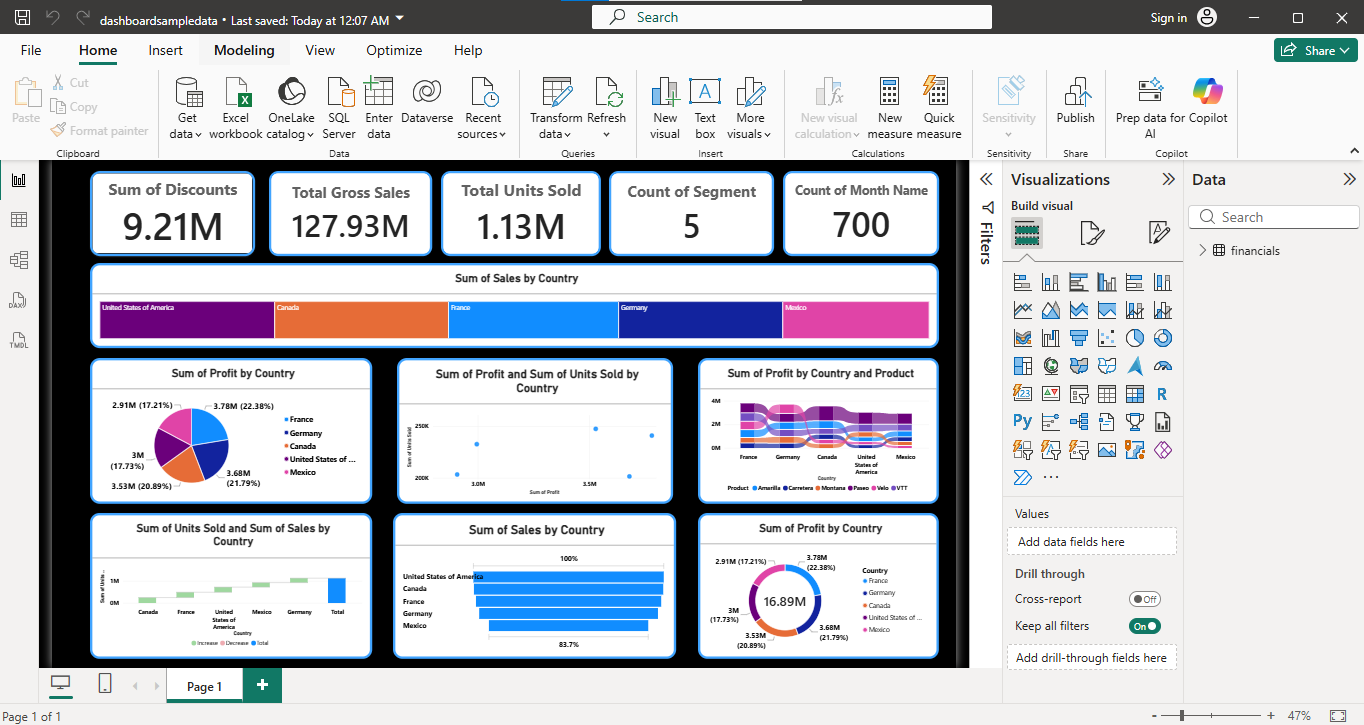

Layout of this report page (visuals, bound fields, positions):
{"tool":"powerbi","page":{"name":"Page 1","canvas":[1920,1080],"ordinal":0},"visuals":[{"type":"ribbonChart","fields":{"Category":["financials.Country"],"Series":["financials.Product"],"Y":["Sum(financials.Profit)"]},"box":[1373.4,420.9,512.4,310.4],"z":0},{"type":"waterfallChart","fields":{"Category":["financials.Country"],"Y":["Sum(financials.Units Sold)"]},"box":[80.8,750.5,599.5,310.4],"z":1000},{"type":"funnel","fields":{"Category":["financials.Country"],"Y":["Sum(financials.Sales)"]},"box":[725,750.5,601.7,310.4],"z":2000},{"type":"scatterChart","fields":{"Category":["financials.Country"],"X":["Sum(financials.Profit)"],"Y":["Sum(financials.Units Sold)"]},"box":[733.5,420.9,586.8,310.4],"z":3000},{"type":"pieChart","fields":{"Category":["financials.Country"],"Y":["Sum(financials.Profit)"]},"box":[80.8,420.9,599.5,310.4],"z":4000},{"type":"treemap","fields":{"Group":["financials.Country"],"Values":["Sum(financials.Sales)"]},"box":[80.8,219,1805,180.7],"z":5000},{"type":"cardVisual","fields":{"Data":["Sum(financials.Discounts)"]},"box":[80.8,23.4,350.8,180.7],"z":6000},{"type":"cardVisual","fields":{"Data":["Sum(financials.Gross Sales)"]},"box":[461.3,23.4,346.5,180.7],"z":7000},{"type":"cardVisual","fields":{"Data":["Sum(financials.Units Sold)"]},"box":[827,23.4,340.2,180.7],"z":8000},{"type":"cardVisual","fields":{"Data":["Count(financials.Segment)"]},"box":[1184.2,23.4,350.8,180.7],"z":9000},{"type":"cardVisual","fields":{"Data":["CountNonNull(financials.Month Name)"]},"box":[1554.1,23.4,331.7,180.7],"z":10000},{"type":"donutChart","fields":{"Category":["financials.Country"],"Y":["Sum(financials.Profit)"]},"box":[1373.4,750.5,512.4,310.4],"z":11000}]}

Visuals, with their boxes on the page's 1920x1080 design canvas (x1, y1, x2, y2). These are canvas units, not pixel positions in the 1364x725 screenshot, which may show the page scaled, cropped or inside an application window:
ribbonChart - financials.Country x financials.Product: (x1=1373, y1=421, x2=1886, y2=731)
waterfallChart - financials.Country x Sum(financials.Units Sold): (x1=81, y1=750, x2=680, y2=1061)
funnel - financials.Country x Sum(financials.Sales): (x1=725, y1=750, x2=1327, y2=1061)
scatterChart - financials.Country x Sum(financials.Profit): (x1=734, y1=421, x2=1320, y2=731)
pieChart - financials.Country x Sum(financials.Profit): (x1=81, y1=421, x2=680, y2=731)
treemap - financials.Country x Sum(financials.Sales): (x1=81, y1=219, x2=1886, y2=400)
cardVisual - Sum(financials.Discounts): (x1=81, y1=23, x2=432, y2=204)
cardVisual - Sum(financials.Gross Sales): (x1=461, y1=23, x2=808, y2=204)
cardVisual - Sum(financials.Units Sold): (x1=827, y1=23, x2=1167, y2=204)
cardVisual - Count(financials.Segment): (x1=1184, y1=23, x2=1535, y2=204)
cardVisual - CountNonNull(financials.Month Name): (x1=1554, y1=23, x2=1886, y2=204)
donutChart - financials.Country x Sum(financials.Profit): (x1=1373, y1=750, x2=1886, y2=1061)
